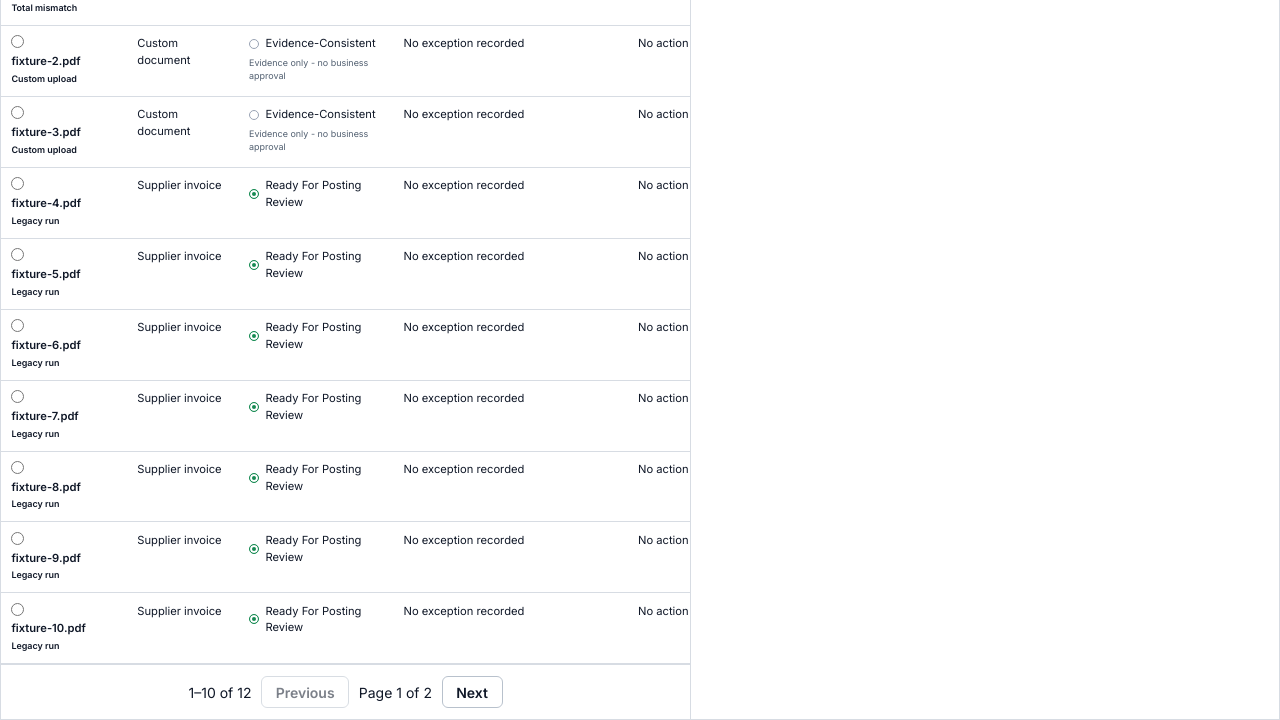
Test: Run explorer › does not display evidence or preview for an expired run
The width and height of the screenshot is (1280, 720).
(page scrolled)
Click the button with aria-label "next page".
click(472, 692)  # box x1=442 y1=676 x2=502 y2=708
(page scrolled)
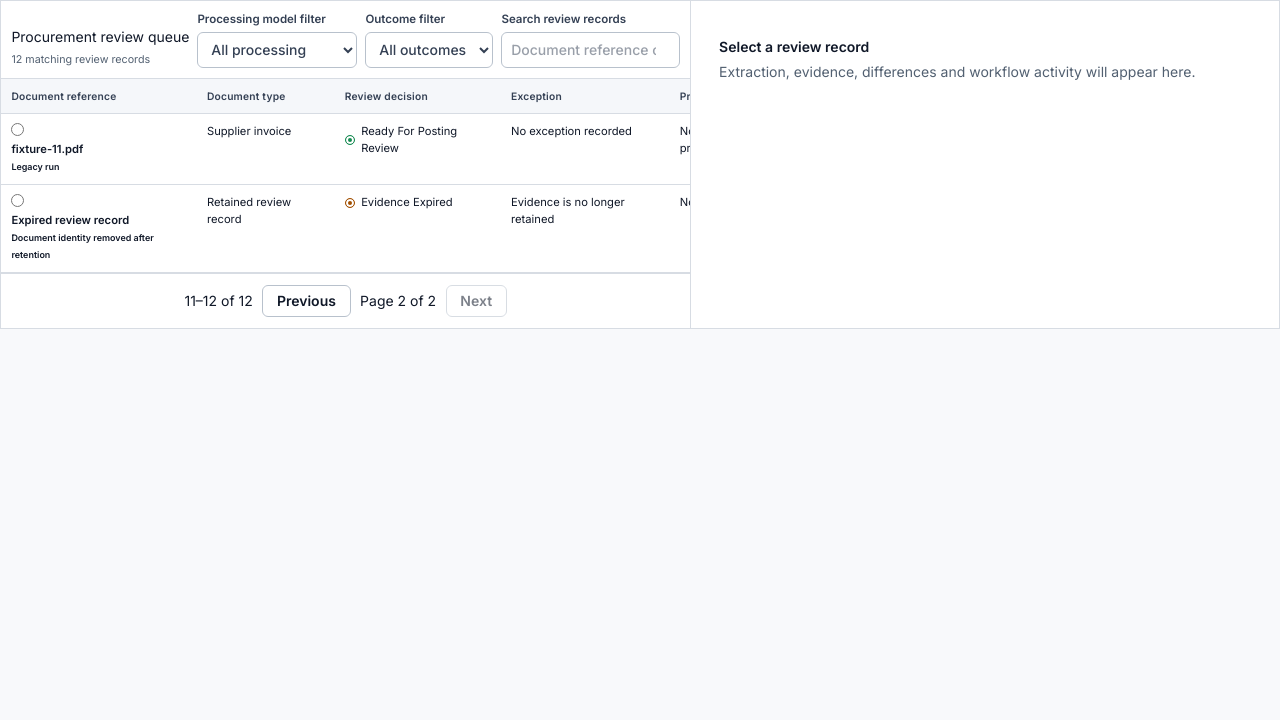
Click the radio button named "Select Expired review record, Evidence expired, received 27 Aug 2026, 08:00 SGT".
click(18, 201)  # box x1=11 y1=194 x2=24 y2=207
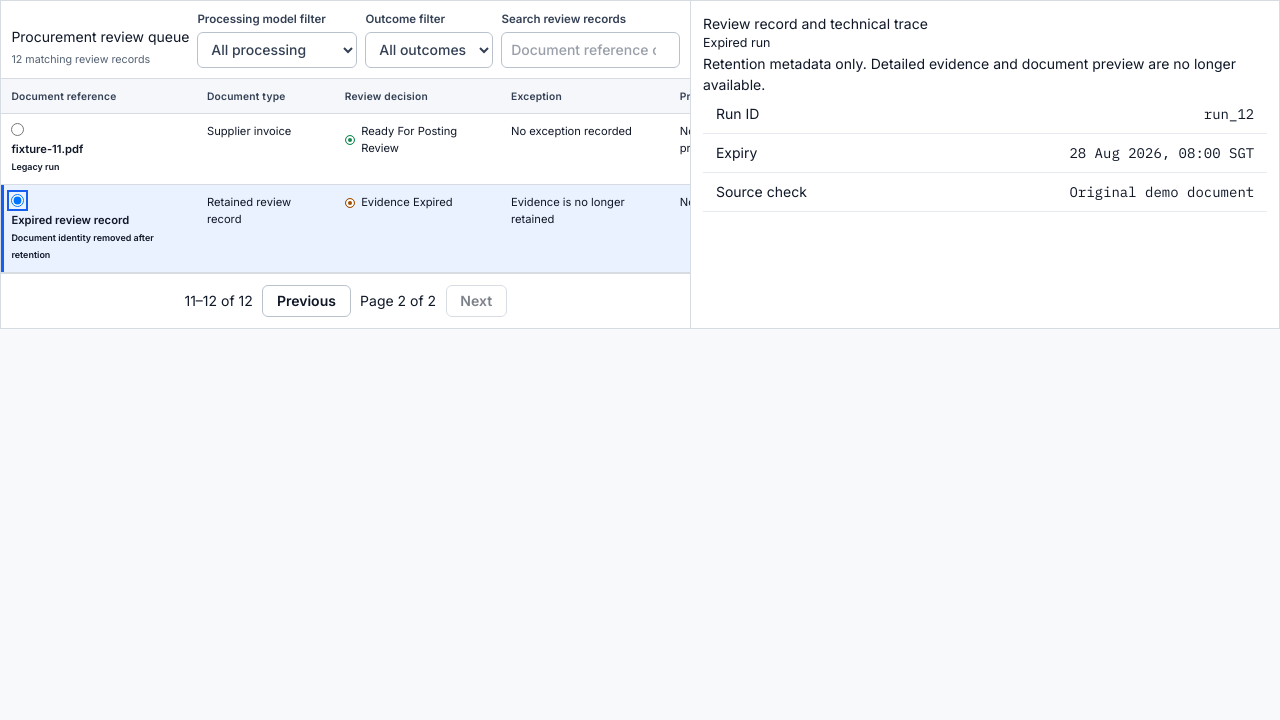
Now the text "Retention metadata only" is shown, box x1=703 y1=55 x2=1236 y2=93
